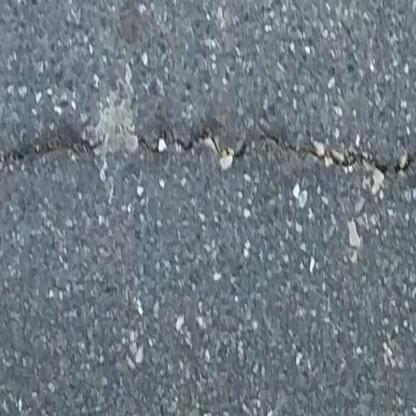Cracks: (258, 130, 416, 184), (0, 135, 108, 181), (135, 124, 253, 165)
